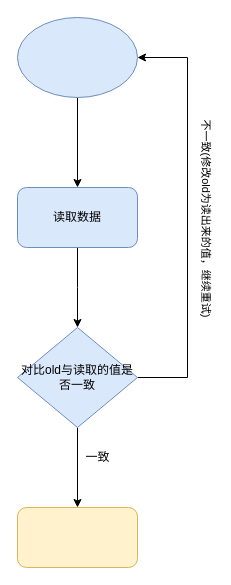
This 231x585 diagram has some shape labels left out. The box of each missing label's shape, as (x1, y1, x2, y2) in pixels:
update（new, old）: (16, 16, 138, 98)
修改数据: (16, 506, 138, 568)
